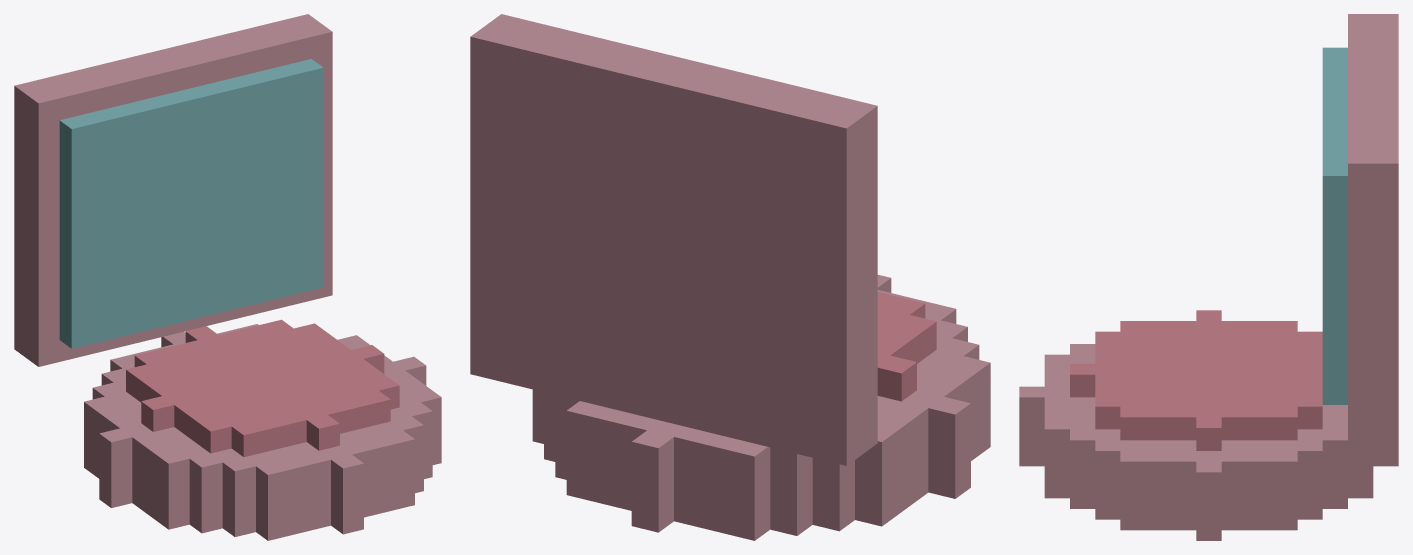
File: beauty-16.glb
3 renders of one model, left to right at view 1: azimuth 30°, elevation 25°; view 2: azimuth 150°, elevation 25°; view 3: azimuth 270°, elevation 25°, orthographic. The views are drawn at different scales.
Visible parts, largest first — view 1: Compact case; view 2: Compact case; view 3: Compact case.
Boxes of the visible parts, x1,y1,x2,y2 form: Compact case: [14, 14, 441, 540]; Compact case: [470, 14, 990, 540]; Compact case: [1019, 14, 1398, 540].
Size of the model in its own units: 1.2 by 1.28 by 1.2.
